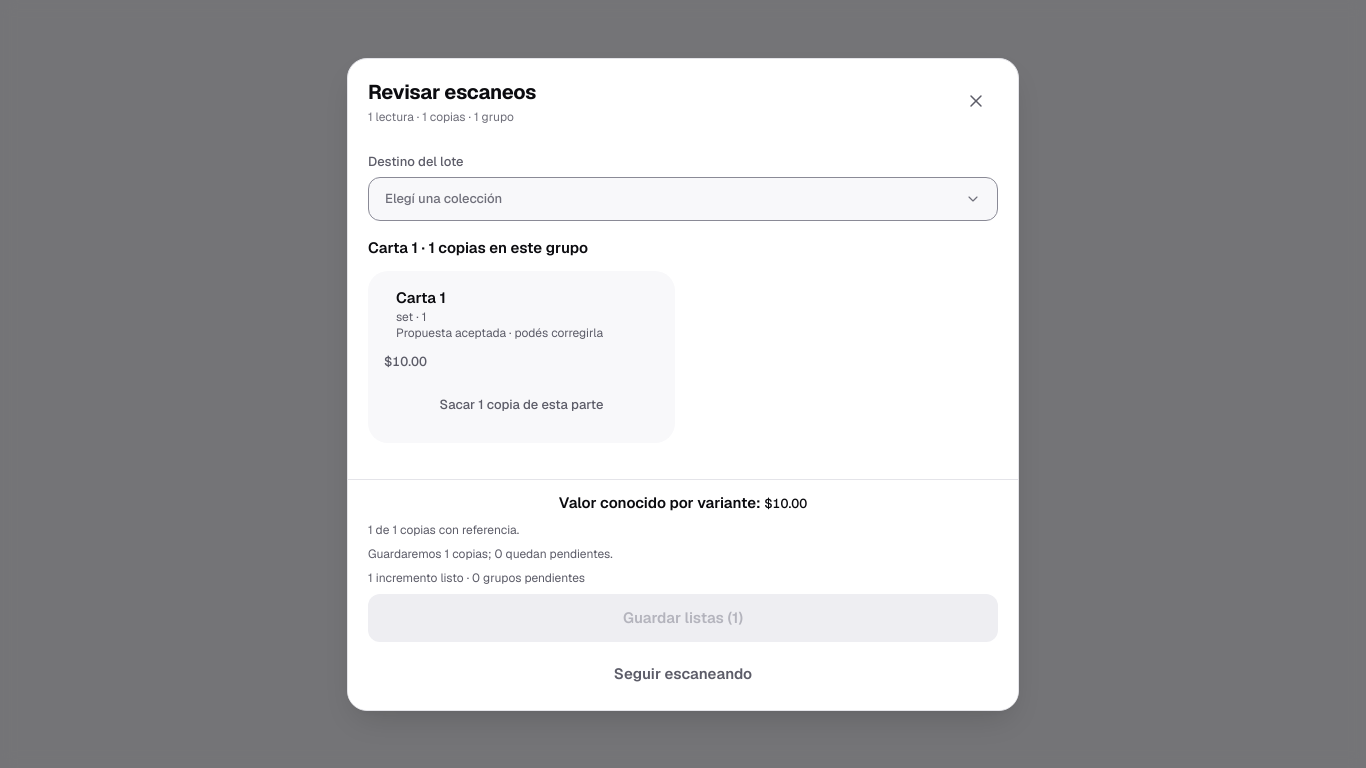
Scenario: OrganizeSheet › un 4xx confirmado como rechazo libera la lectura para corrección sin enviarla al guardar
Click the dropdown named "Destino del lote": (444, 198) [368,177,998,221]
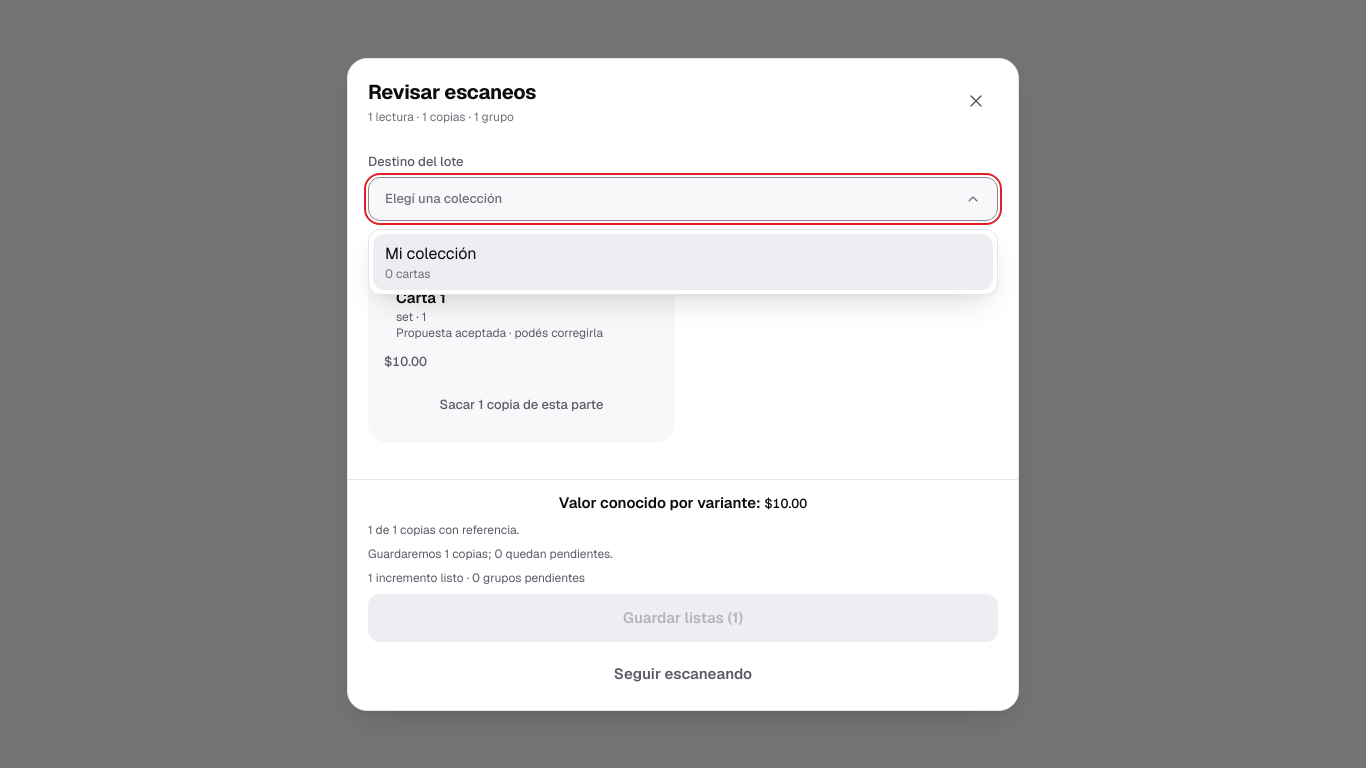
Expected: the option "Mi colección 0 cartas" is shown
Click the option "Mi colección 0 cartas": (431, 254) [373,234,993,290]
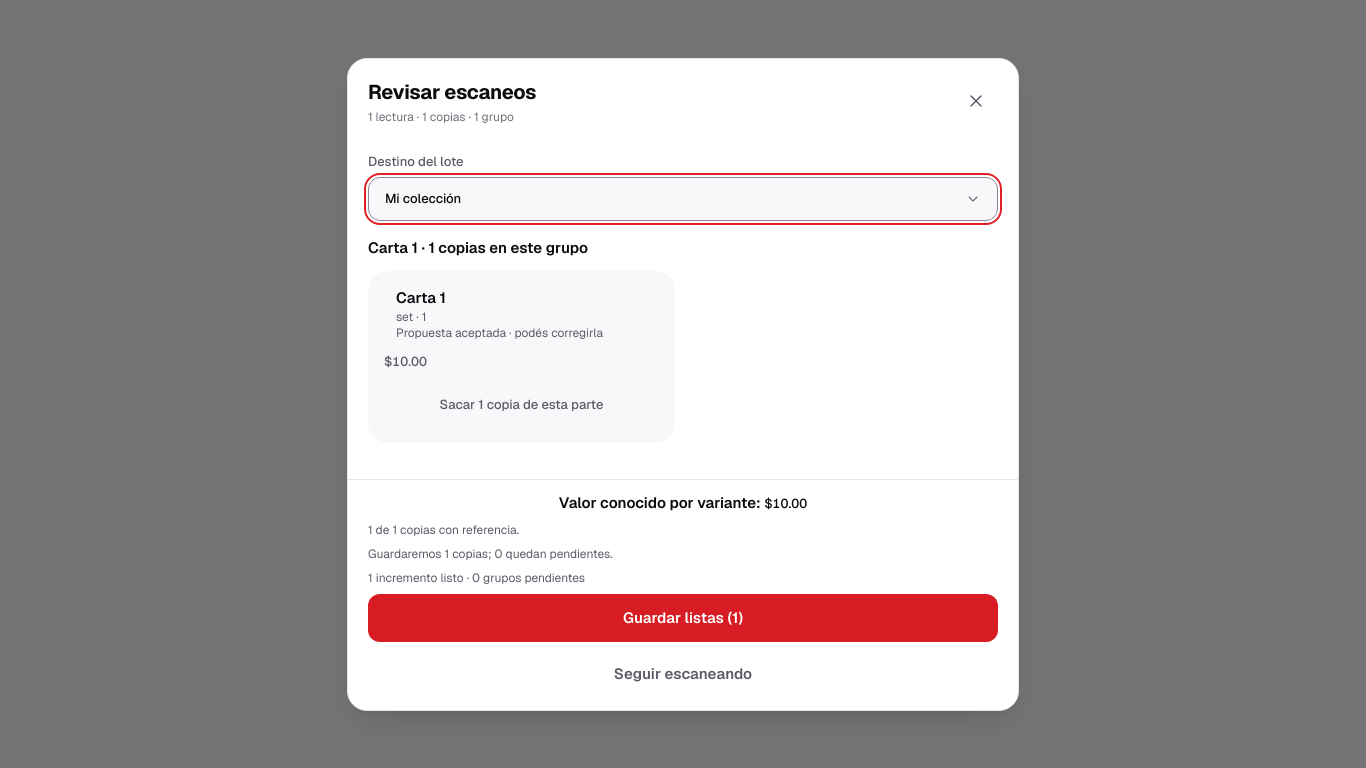
Click the button "Guardar listas (1)": (683, 617) [368,593,998,641]
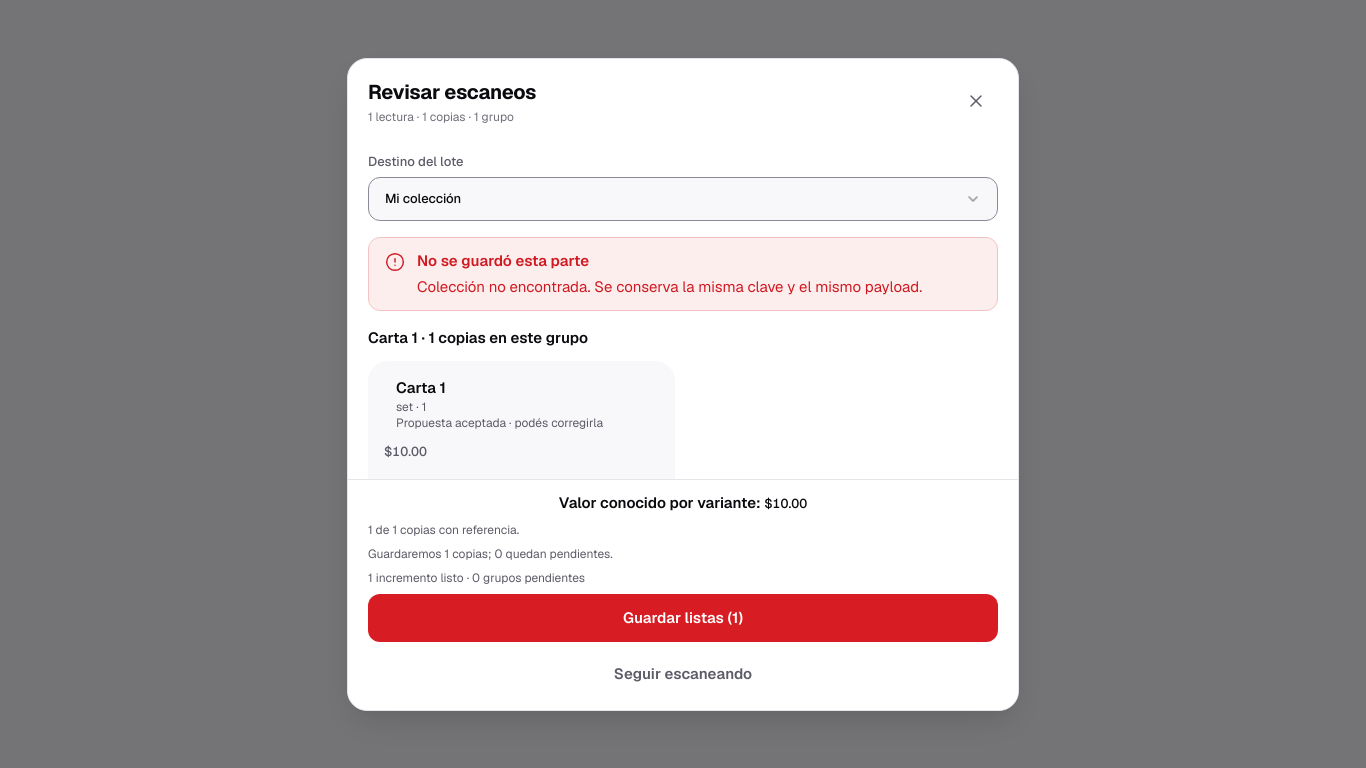
Expected: the text "Carta 1" is shown, [396,378,446,397]
Expected: the text "No se guardó esta parte" is shown, [417,251,589,270]
